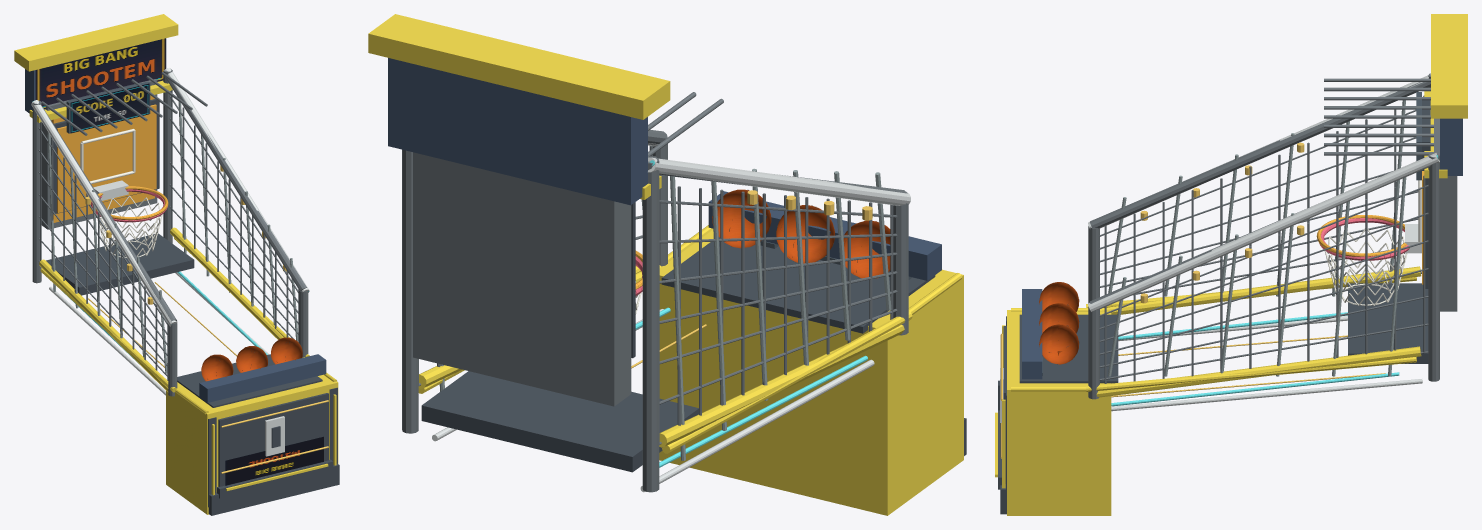
The model's file is shootem.glb.
The picture shows the model from 3 angles, left to right: view 1: azimuth 30°, elevation 25°; view 2: azimuth 150°, elevation 25°; view 3: azimuth 270°, elevation 25°; orthographic projection. The views are drawn at different scales.
Size of the model in its own units: 1.12 by 2.38 by 2.45.
Materials: 1 (1 with a texture image).
